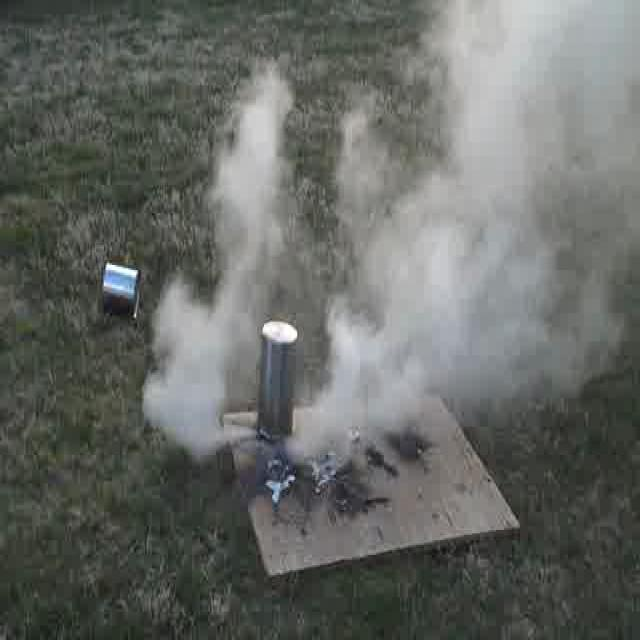Smoke: (327, 4, 638, 453), (218, 88, 292, 290), (158, 296, 220, 456)
